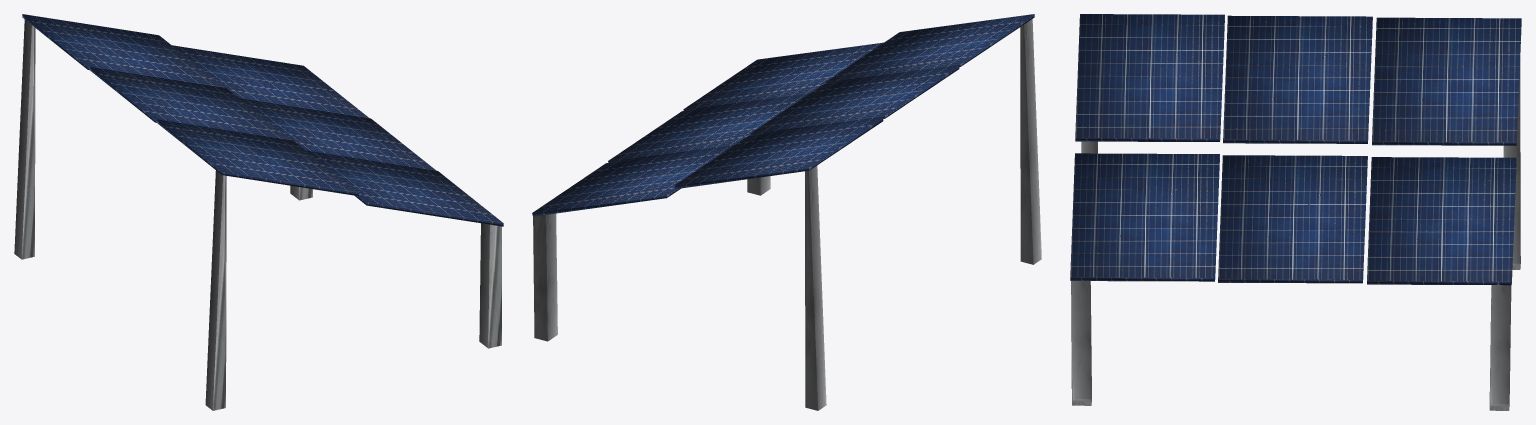
Rendered from six  panel model short legs.fbx.
3 views of the same model, side by side, from view 1: azimuth 30°, elevation 25°; view 2: azimuth 150°, elevation 25°; view 3: azimuth 270°, elevation 25° (orthographic). The views are drawn at different scales.
Parts seen in each view (by area): view 1: Cube.009, Cube.019, Cube.014, Cube.008, Cube.029, Cube.024, Cube.005, Cube.015, Cube.018; view 2: Cube.014, Cube.008, Cube.009, Cube.029, Cube.024, Cube.019, Cube.005, Cube.015, Cube.027; view 3: Cube.019, Cube.014, Cube.024, Cube.029, Cube.008, Cube.009, Cube.027, Cube.018, Cube.015.
Boxes of the visible parts, left/top/right/bottom form: Cube.009: left=156, top=119, right=358, bottom=196; Cube.019: left=306, top=150, right=503, bottom=226; Cube.014: left=22, top=14, right=224, bottom=87; Cube.008: left=89, top=67, right=291, bottom=140; Cube.029: left=172, top=45, right=368, bottom=117; Cube.024: left=239, top=98, right=435, bottom=170; Cube.005: left=205, top=170, right=226, bottom=410; Cube.015: left=14, top=19, right=35, bottom=259; Cube.018: left=479, top=223, right=501, bottom=348; Cube.014: left=674, top=117, right=883, bottom=189; Cube.008: left=750, top=65, right=959, bottom=135; Cube.009: left=826, top=14, right=1034, bottom=83; Cube.029: left=532, top=146, right=731, bottom=216; Cube.024: left=608, top=94, right=807, bottom=162; Cube.019: left=683, top=42, right=883, bottom=110; Cube.005: left=1020, top=19, right=1041, bottom=264; Cube.015: left=805, top=166, right=826, bottom=410; Cube.027: left=533, top=213, right=557, bottom=341; Cube.019: left=1070, top=153, right=1219, bottom=281; Cube.014: left=1372, top=17, right=1521, bottom=145; Cube.024: left=1218, top=155, right=1367, bottom=283; Cube.029: left=1367, top=157, right=1516, bottom=285; Cube.008: left=1223, top=15, right=1372, bottom=143; Cube.009: left=1075, top=14, right=1224, bottom=141; Cube.027: left=1489, top=284, right=1511, bottom=410; Cube.018: left=1071, top=281, right=1091, bottom=405; Cube.015: left=1503, top=61, right=1520, bottom=269.
Bounding box in the file's own units: 198 × 153 × 249.
